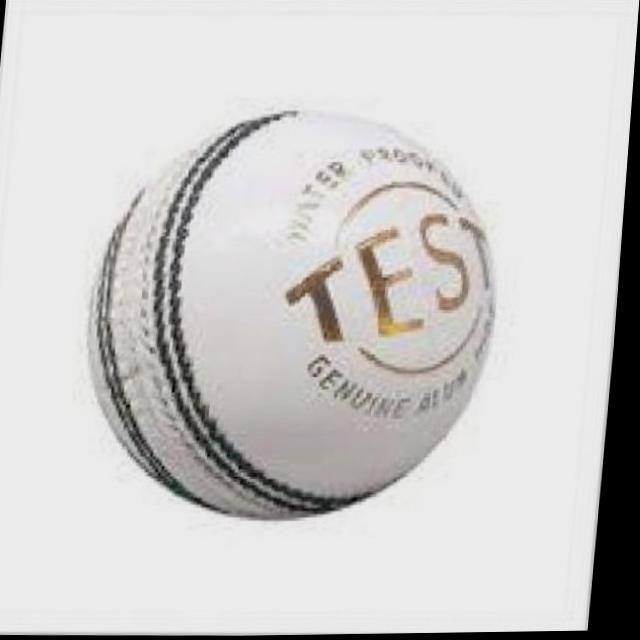-: (85, 98, 530, 524)
